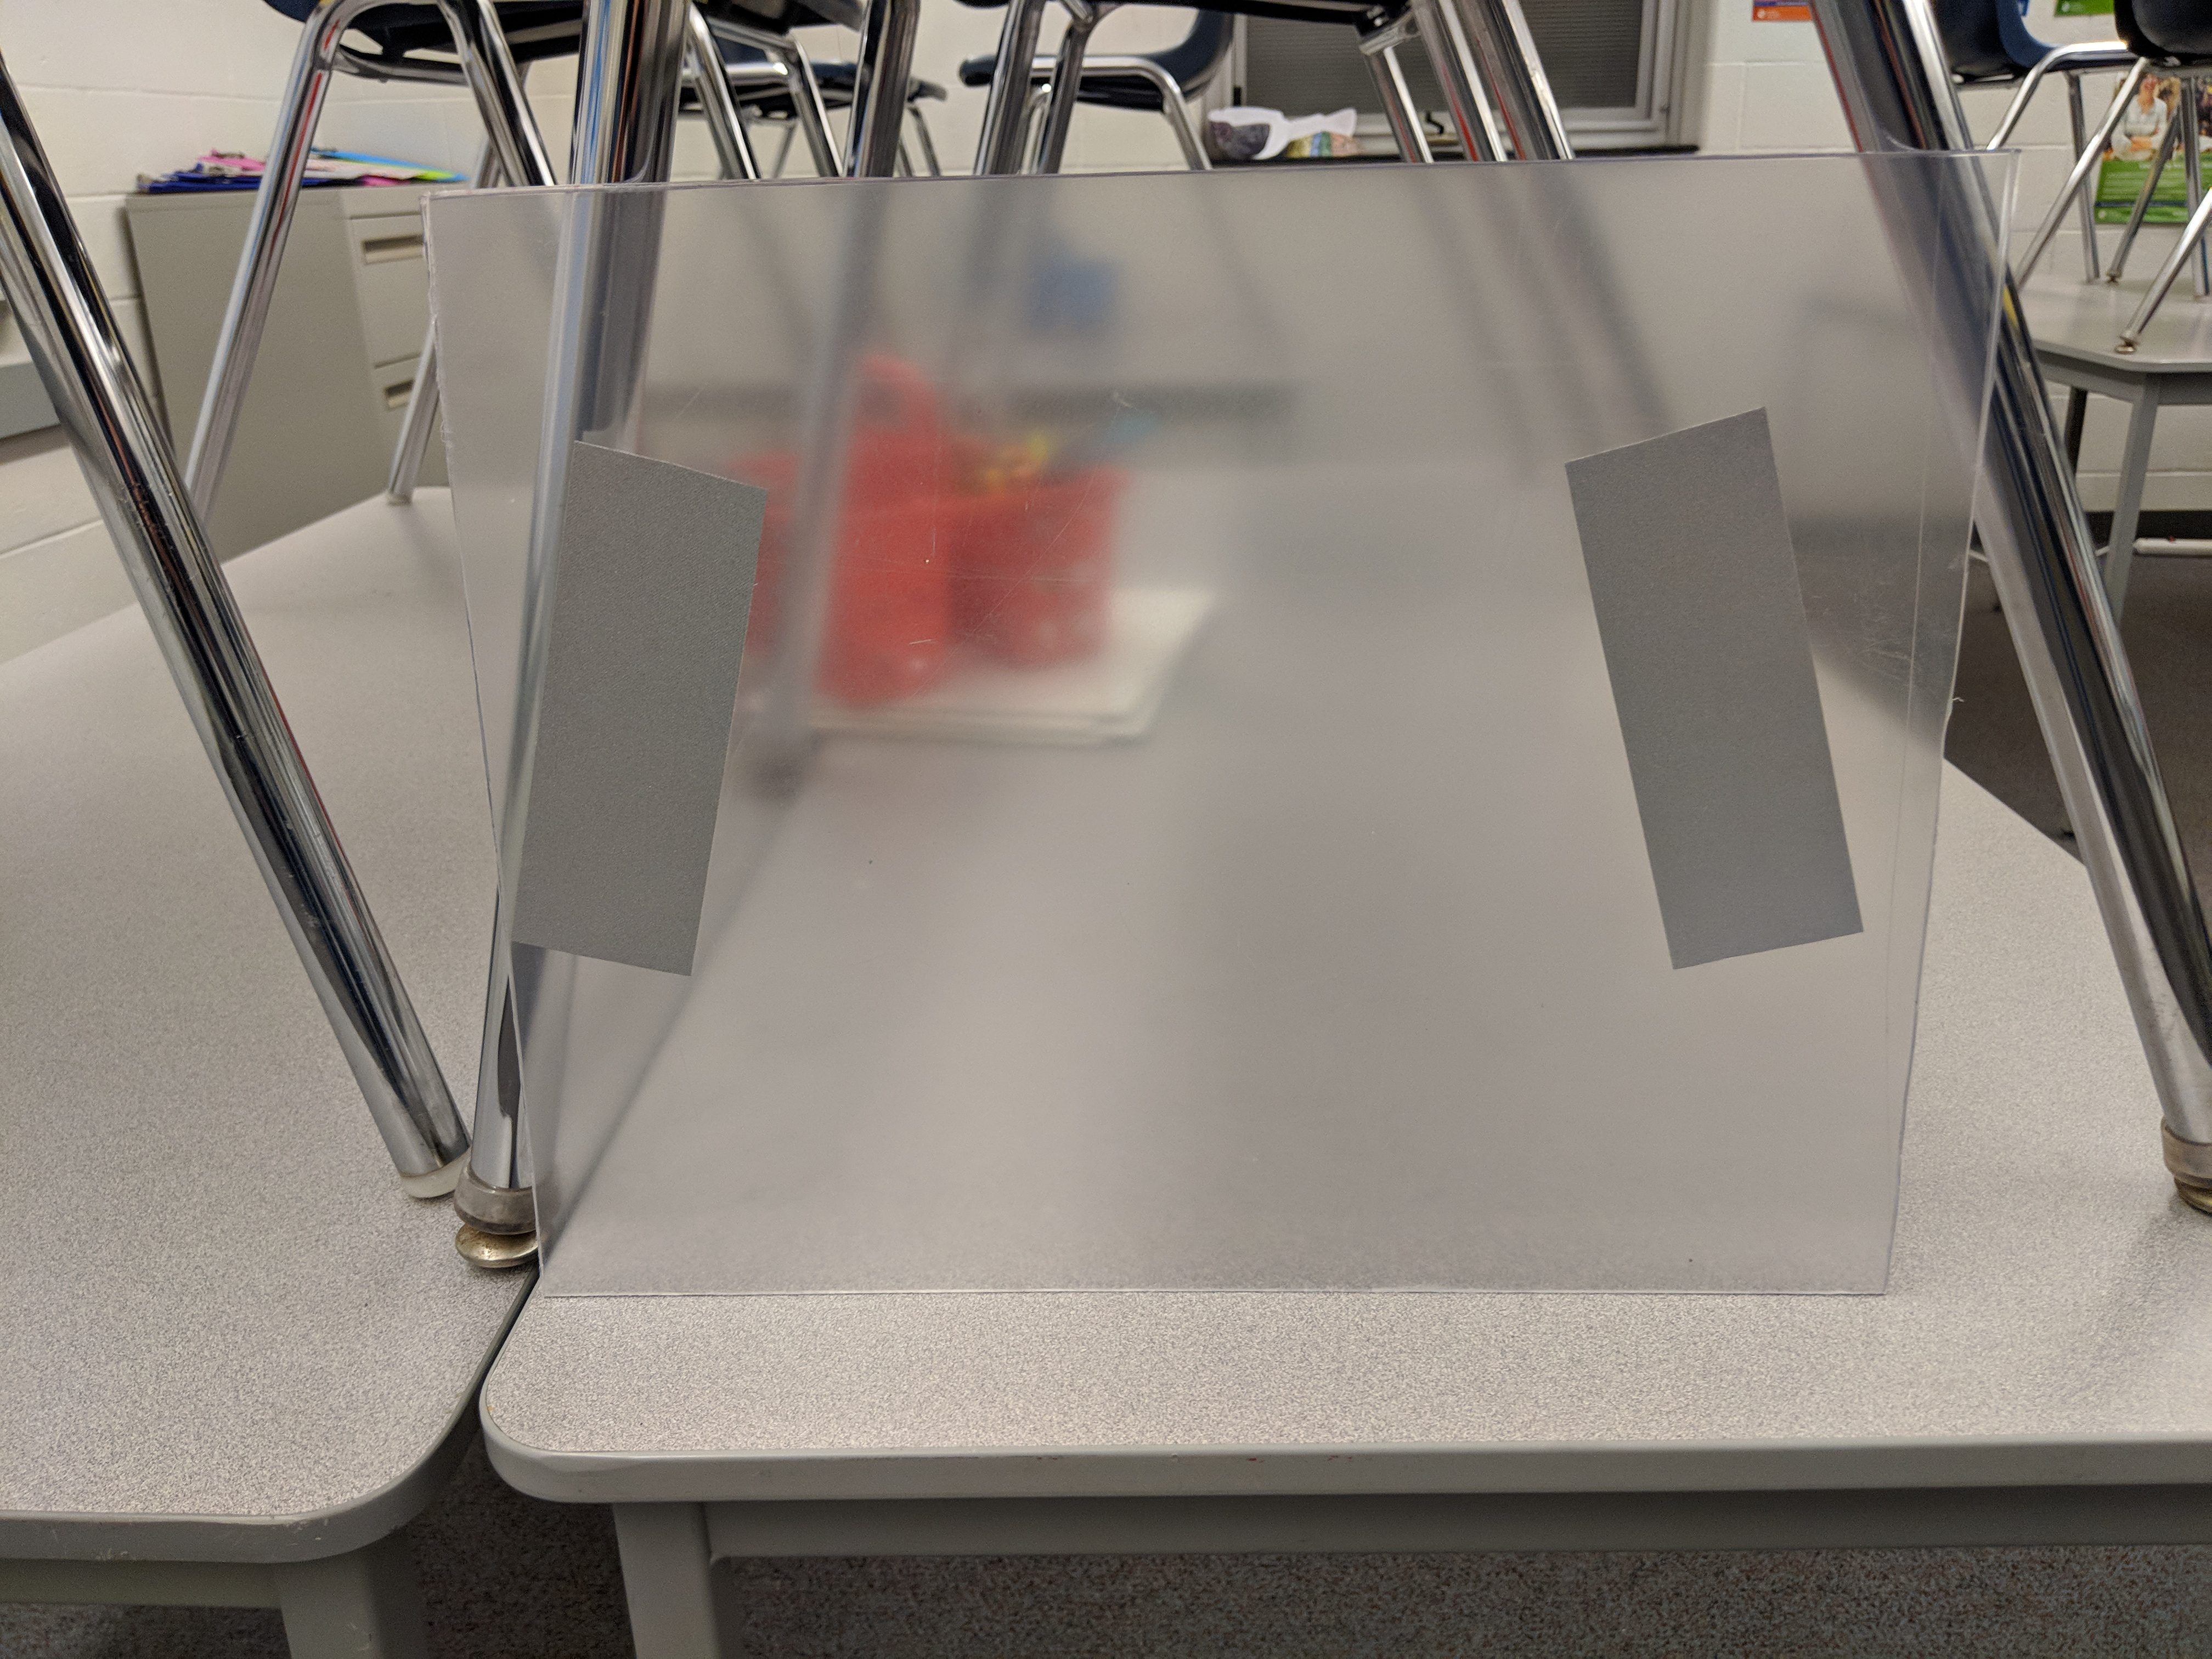vision_target: (500, 406, 1883, 1006)
